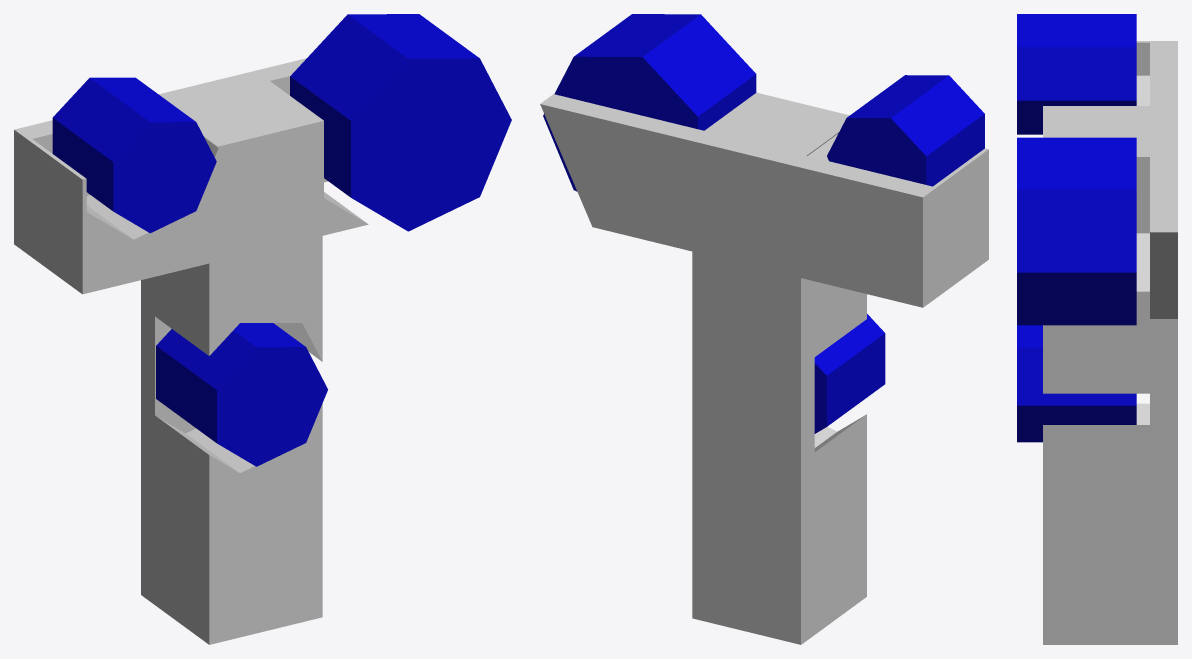
File: Ch_Lite_T_01.fbx
3 views of the same model, side by side, from view 1: azimuth 30°, elevation 25°; view 2: azimuth 150°, elevation 25°; view 3: azimuth 270°, elevation 25° (orthographic). The views are drawn at different scales.
Parts seen in each view (by area): view 1: sphere1; view 2: sphere1; view 3: sphere1.
Boxes of the visible parts, box(x1,y1,x2,y2) form: sphere1: box(14, 14, 511, 644); sphere1: box(540, 14, 988, 644); sphere1: box(1017, 14, 1177, 644).
Size of the model in its own units: 0.7021 by 0.8876 by 0.2387.
